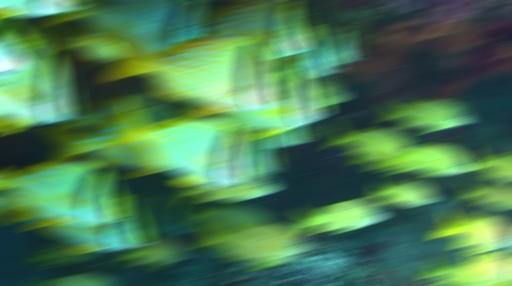Fish: (103, 28, 284, 114), (108, 98, 255, 185), (41, 0, 212, 54), (41, 113, 170, 176), (214, 69, 329, 136), (0, 163, 125, 224), (24, 196, 151, 251), (0, 50, 81, 127), (206, 0, 315, 57), (192, 220, 309, 261), (272, 28, 359, 76), (68, 92, 169, 128), (272, 28, 341, 76), (324, 123, 413, 159), (293, 199, 384, 233), (432, 212, 509, 252), (127, 194, 198, 236), (378, 100, 471, 132), (174, 176, 277, 204), (46, 24, 125, 60), (385, 143, 472, 175), (185, 201, 270, 231), (25, 238, 104, 265), (117, 240, 188, 270), (0, 26, 42, 73), (238, 131, 279, 175), (372, 179, 435, 206), (464, 250, 511, 285), (419, 256, 475, 285), (457, 179, 511, 209), (315, 28, 360, 64), (0, 192, 50, 223), (0, 0, 86, 16), (305, 76, 348, 106), (468, 150, 511, 179), (265, 124, 310, 146), (450, 207, 507, 224), (481, 256, 512, 286), (47, 273, 117, 285), (246, 255, 299, 269), (346, 154, 392, 170), (199, 0, 213, 3)
